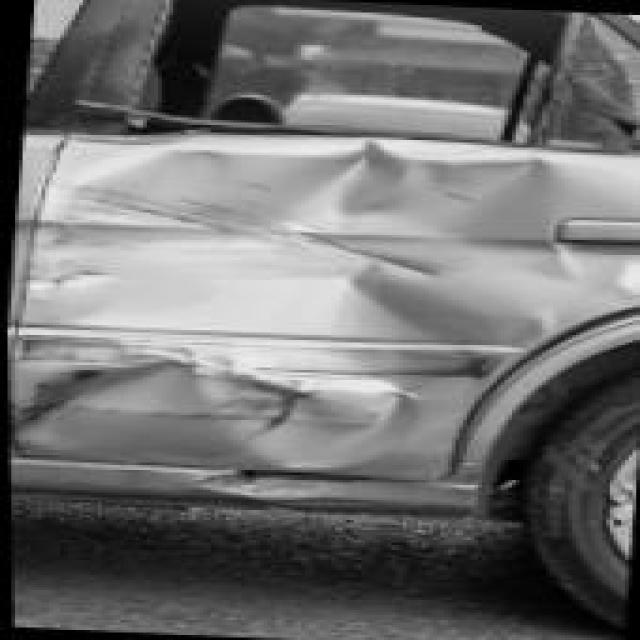Door: (0, 0, 640, 508)
